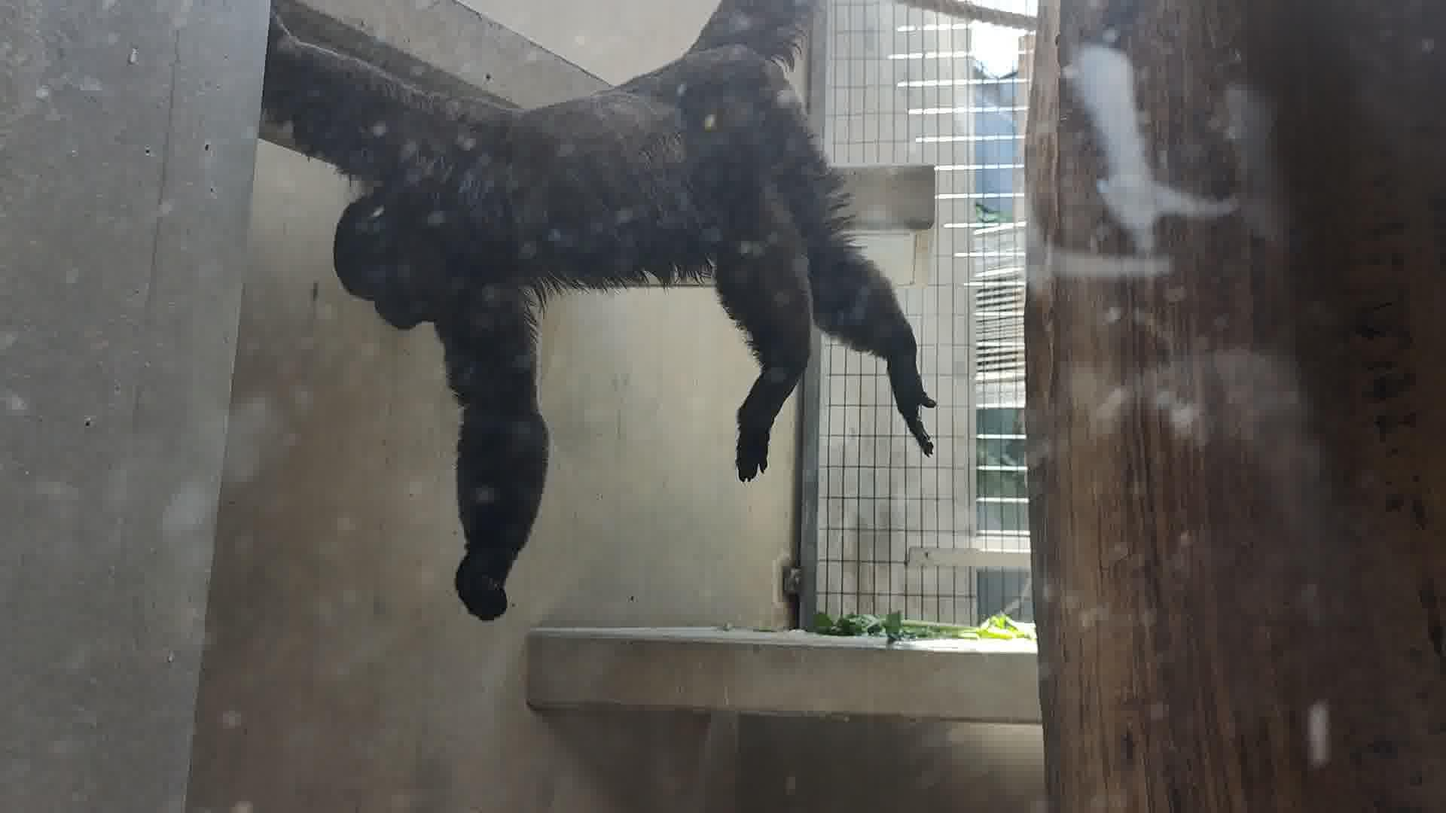boar: (263, 0, 937, 620)
